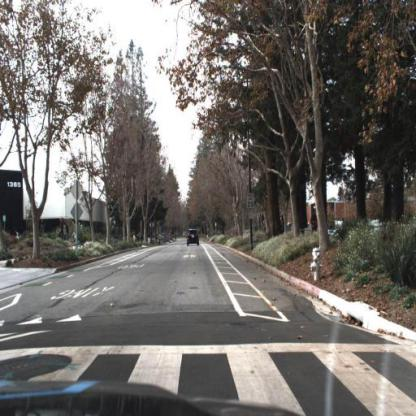car: (186, 228, 201, 249)
pedestrian: (311, 209, 318, 233), (59, 217, 65, 242), (64, 223, 70, 242)
